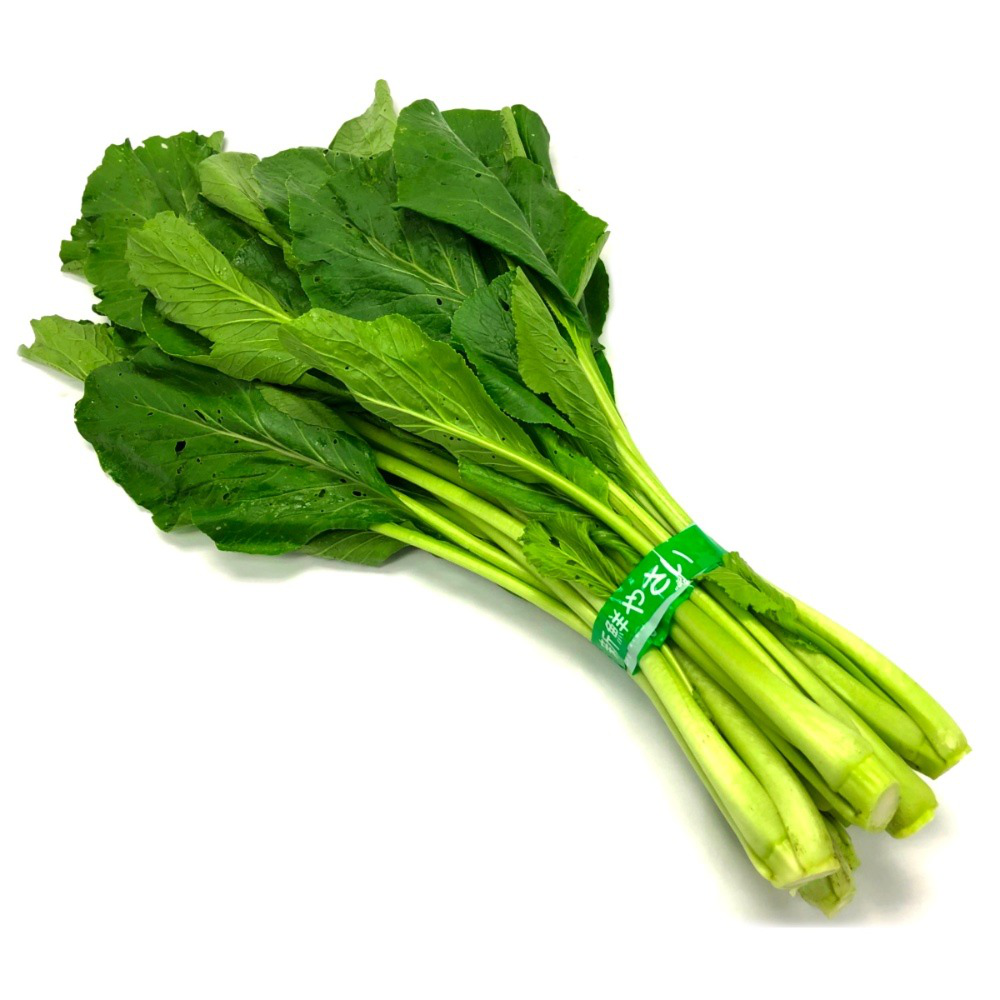Sawi: (27, 64, 981, 919)
